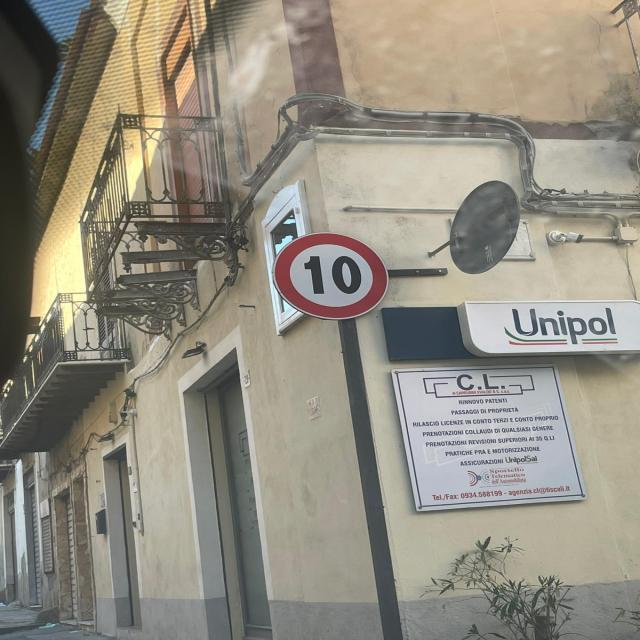forb_speed_over_10: (270, 231, 390, 322)
